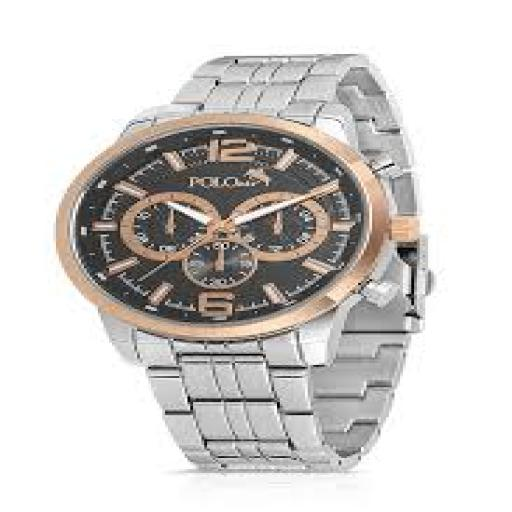KolSaati: (24, 28, 476, 468)
